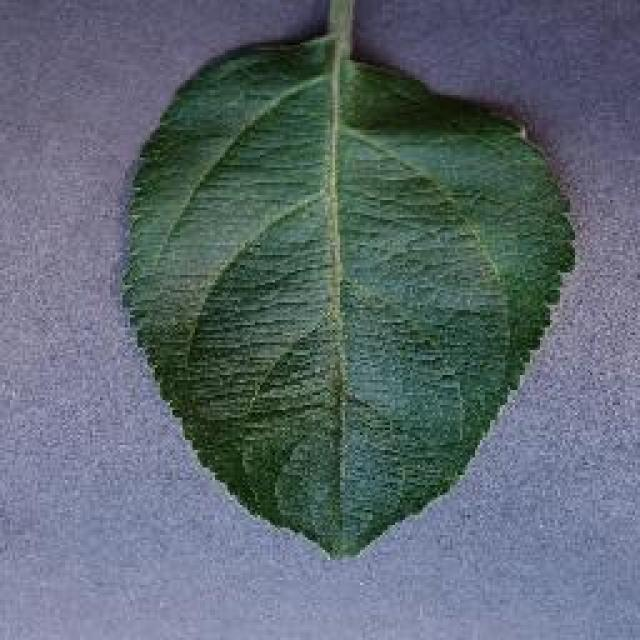apple healthy: (115, 5, 577, 560)
